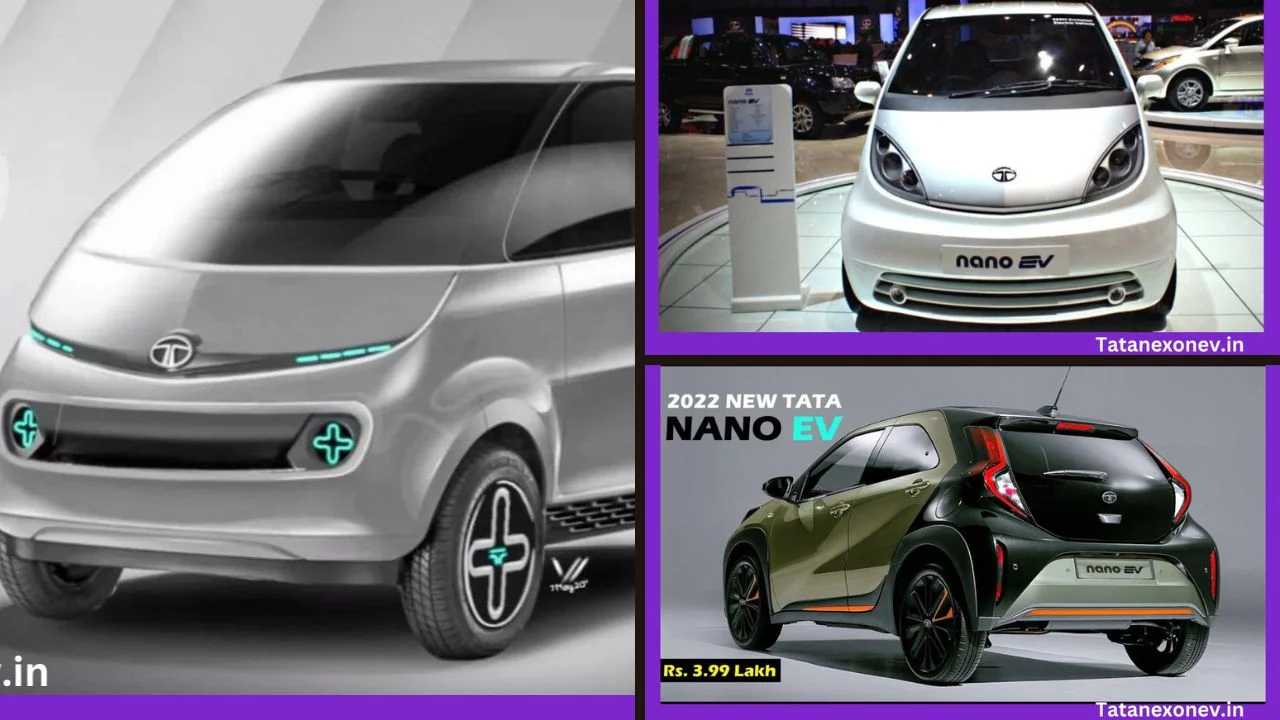Nano: (840, 2, 1181, 335)
